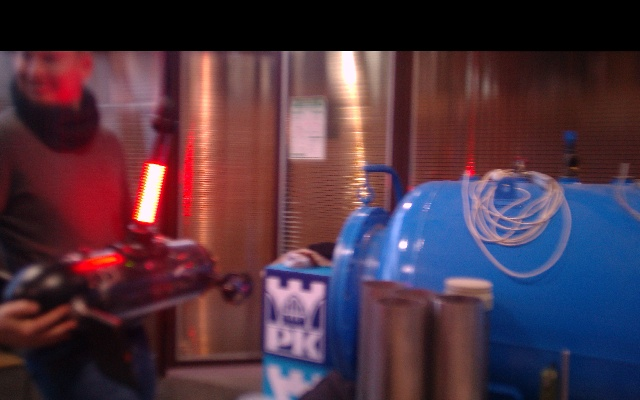red: (132, 164, 167, 225)
